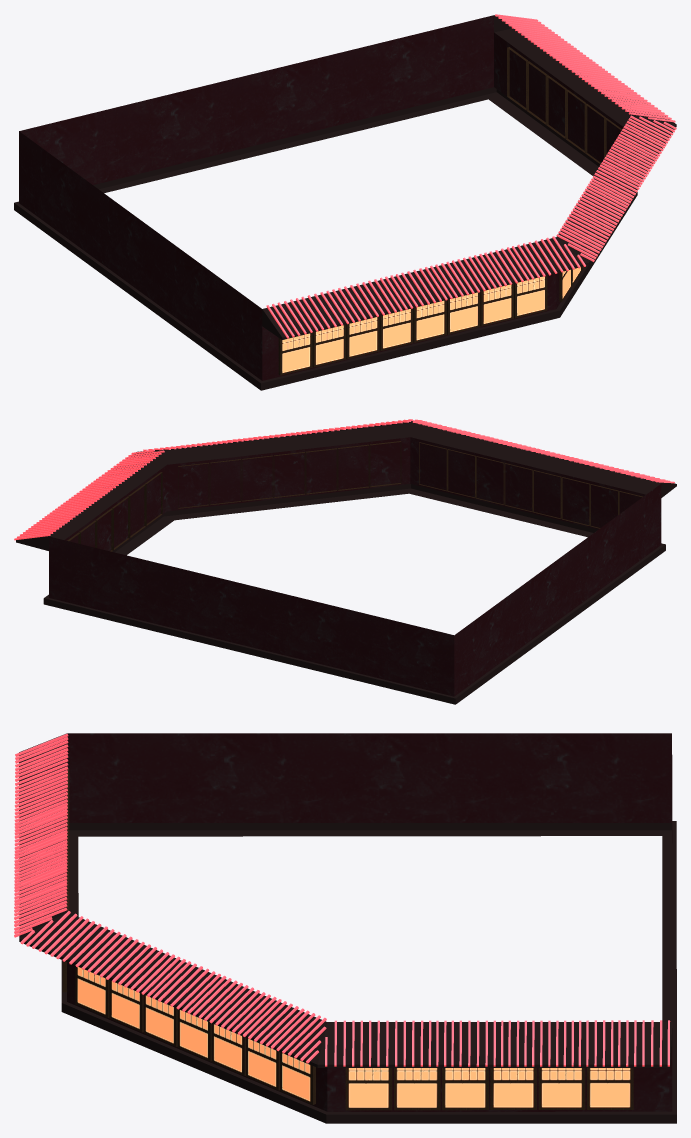
Rendered from S1_KadoBuilding.fbx.
The picture shows the model from 3 angles, top to bottom: view 1: azimuth 30°, elevation 25°; view 2: azimuth 150°, elevation 25°; view 3: azimuth 270°, elevation 25°; orthographic projection. The views are drawn at different scales.
Parts seen in each view (by area): view 1: Base, Kawara, Mado; view 2: Base, Kawara, Mado; view 3: Base, Kawara, Mado.
Boxes of the visible parts, box(x1,y1,x2,y2) form: Base: box(14, 15, 676, 390); Kawara: box(266, 14, 676, 338); Mado: box(278, 47, 622, 375); Base: box(16, 421, 676, 704); Kawara: box(14, 419, 674, 540); Mado: box(67, 441, 642, 551); Base: box(19, 733, 676, 1123); Kawara: box(14, 733, 670, 1066); Mado: box(62, 769, 633, 1110).
Bounding box in the file's own units: 3997 × 599 × 3539.
3 materials, 3 textured.
